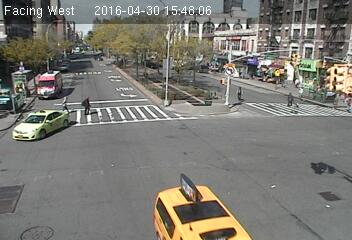neg: (226, 60, 237, 76), (275, 68, 286, 83), (202, 93, 213, 107)
pos: (231, 83, 247, 104), (79, 96, 93, 115), (57, 93, 71, 112), (331, 94, 344, 112), (284, 91, 296, 107), (341, 94, 351, 113), (296, 83, 307, 98), (293, 75, 303, 88)
